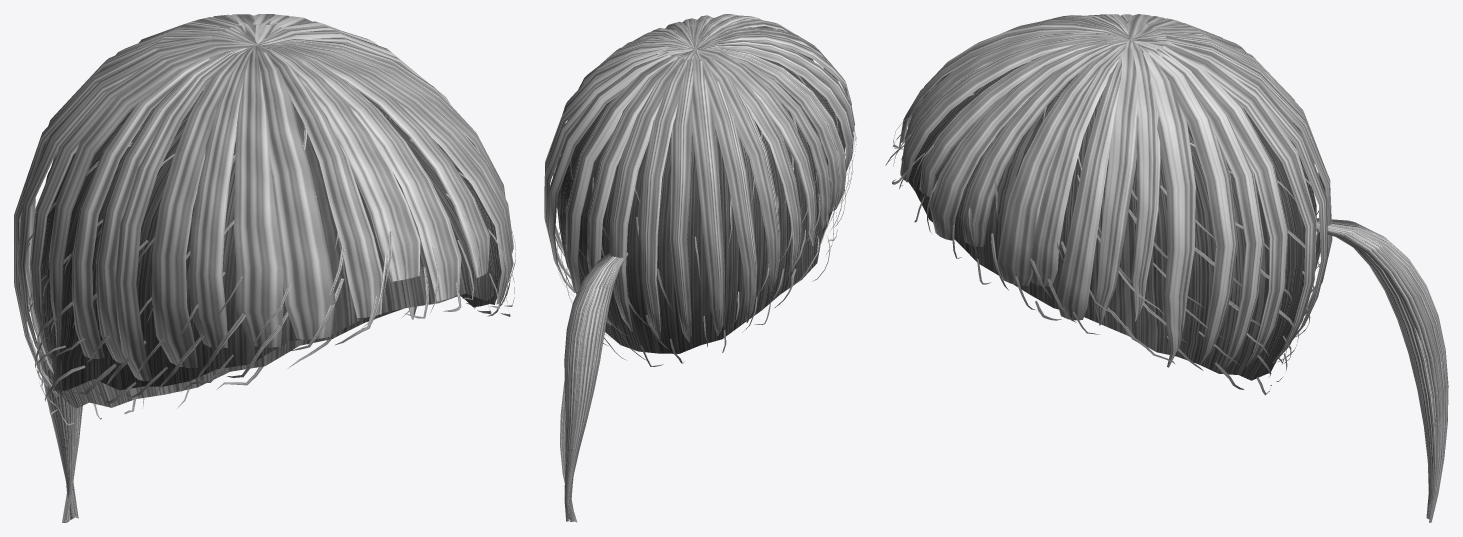
The model's file is unified_f_tail.glb.
The picture shows the model from 3 angles, left to right: view 1: azimuth 30°, elevation 25°; view 2: azimuth 150°, elevation 25°; view 3: azimuth 270°, elevation 25°; orthographic projection. The views are drawn at different scales.
Visible parts, largest first — view 1: Hair_directional_locks, Hair_scalp, Hair_layered_strands, Hair_tail_strands; view 2: Hair_directional_locks, Hair_scalp, Hair_tail_strands, Hair_layered_strands; view 3: Hair_directional_locks, Hair_scalp, Hair_tail_strands, Hair_layered_strands.
Boxes of the visible parts, left/top/right/bottom form: Hair_directional_locks: left=14, top=14, right=513, bottom=397; Hair_scalp: left=40, top=85, right=499, bottom=408; Hair_layered_strands: left=26, top=87, right=515, bottom=425; Hair_tail_strands: left=37, top=340, right=82, bottom=522; Hair_directional_locks: left=544, top=14, right=854, bottom=342; Hair_scalp: left=557, top=48, right=845, bottom=353; Hair_tail_strands: left=560, top=252, right=628, bottom=522; Hair_layered_strands: left=550, top=26, right=856, bottom=366; Hair_directional_locks: left=899, top=14, right=1332, bottom=369; Hair_scalp: left=901, top=57, right=1316, bottom=380; Hair_tail_strands: left=1316, top=218, right=1448, bottom=522; Hair_layered_strands: left=885, top=61, right=1322, bottom=395.
Bounding box in the file's own units: 0.091 × 0.1305 × 0.1373.
Materials: 2 (2 with a texture image).
